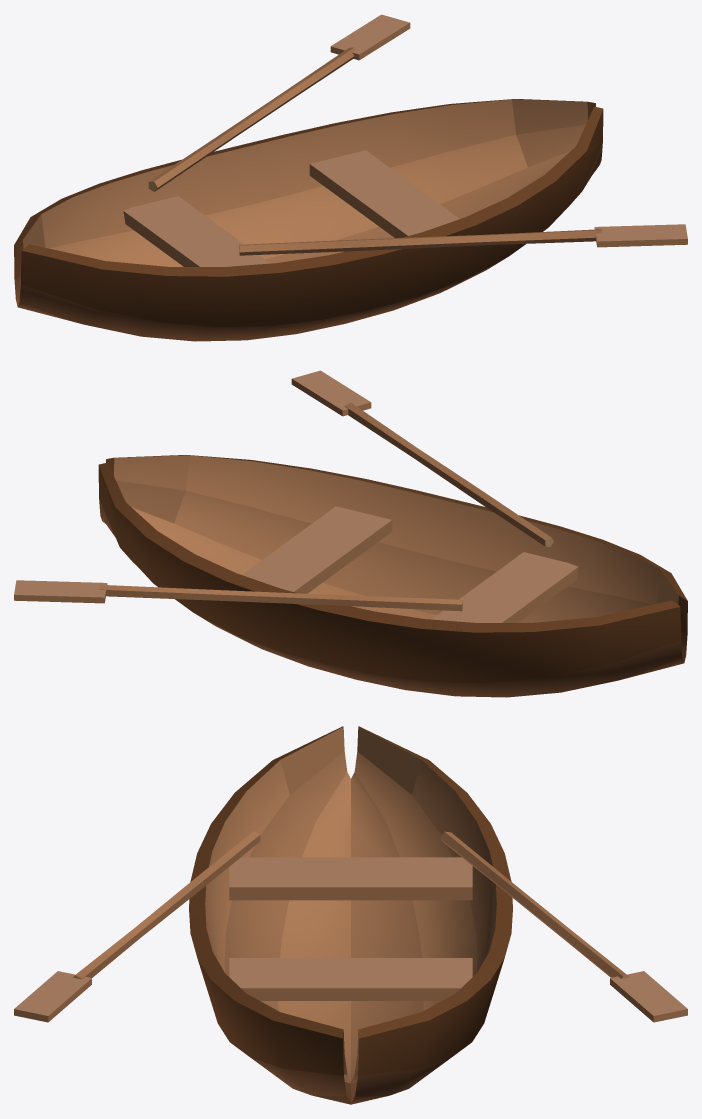
The model's file is rowboat.glb.
3 renders of one model, top to bottom at view 1: azimuth 30°, elevation 25°; view 2: azimuth 150°, elevation 25°; view 3: azimuth 270°, elevation 25°, orthographic. The views are drawn at different scales.
Visible parts, largest first — view 1: rowboat; view 2: rowboat; view 3: rowboat.
Boxes of the visible parts, box(x1,y1,x2,y2) form: rowboat: box(14, 14, 687, 341); rowboat: box(14, 370, 687, 697); rowboat: box(14, 726, 687, 1104).
Bounding box in the file's own units: 3.1 × 0.69 × 2.83.
